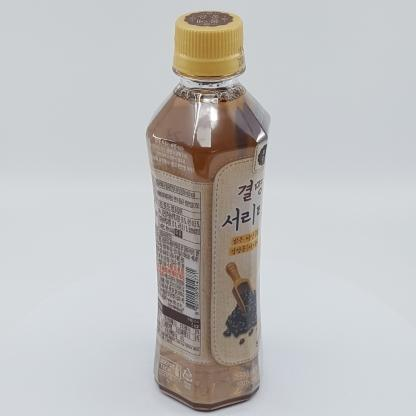----------350ML: (146, 10, 271, 410)
